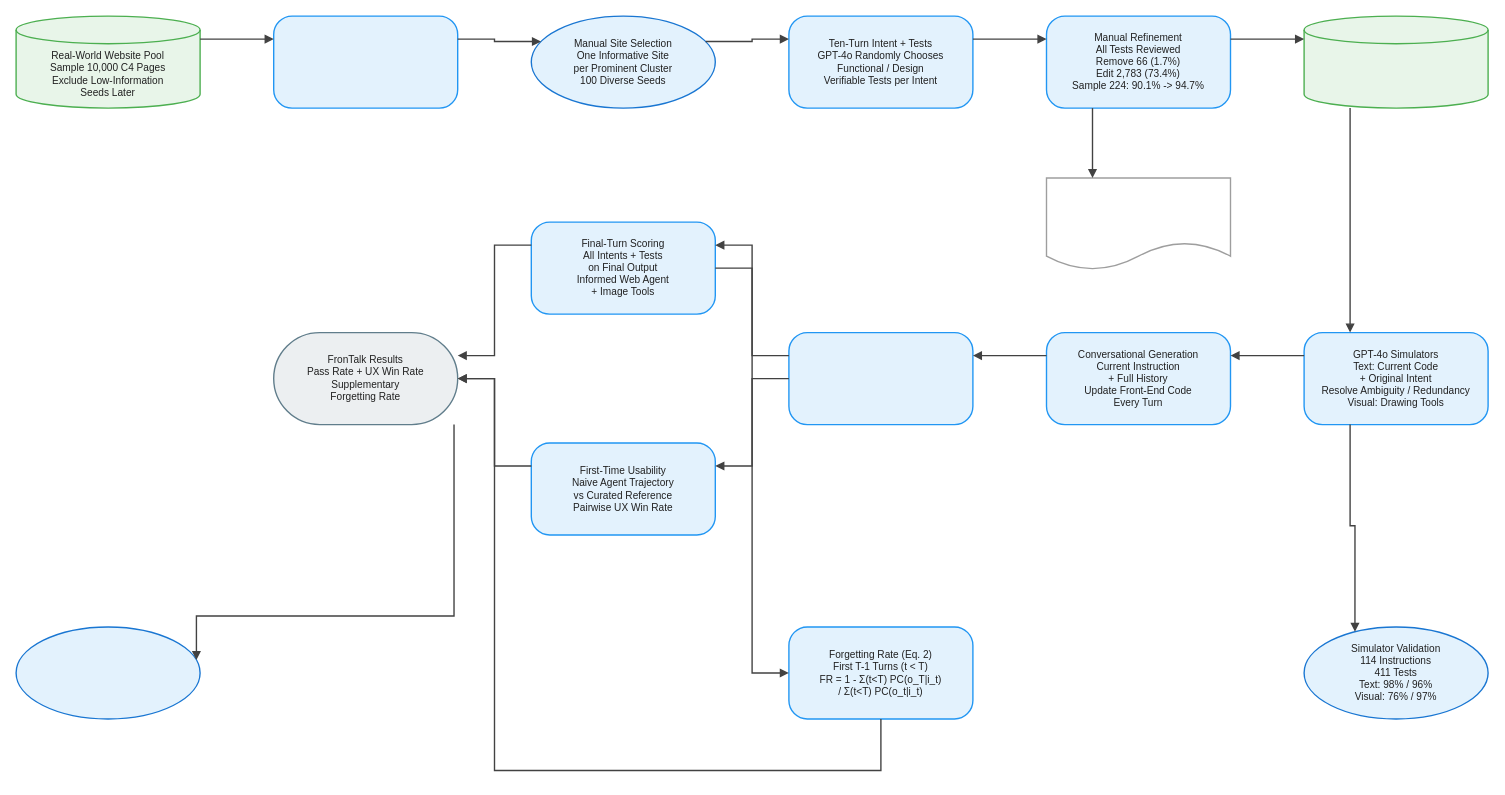
Some shapes in this 1505 by 795 pixel diagram are drawn without their labels. Here are the shapes that lost their labels. From the top down, the centre of each, then its label:
[365,61]: Summarize + Cluster GPT-4o Content + Feature Summaries BERTopic Clusters
[1395,61]: FronTalk Release 100 Dialogues / 1,000 Turns 3,676 Refined Tests
[1138,223]: Curation Boundary Initial Refiner Number + Qualifications Not Disclosed
[880,378]: Conversation Outputs Preserve Turn Websites Turn 10 Code = Final Website
[107,672]: Human Validation 218 Pass Cases 82.0%; Kappa 62.7 50 UX Pairs 84.0%; Kappa 66.7
